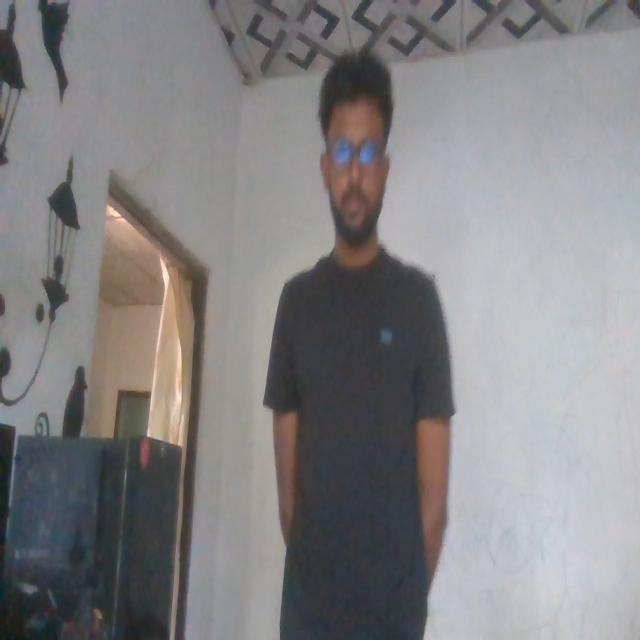Person: (277, 53, 457, 640)
